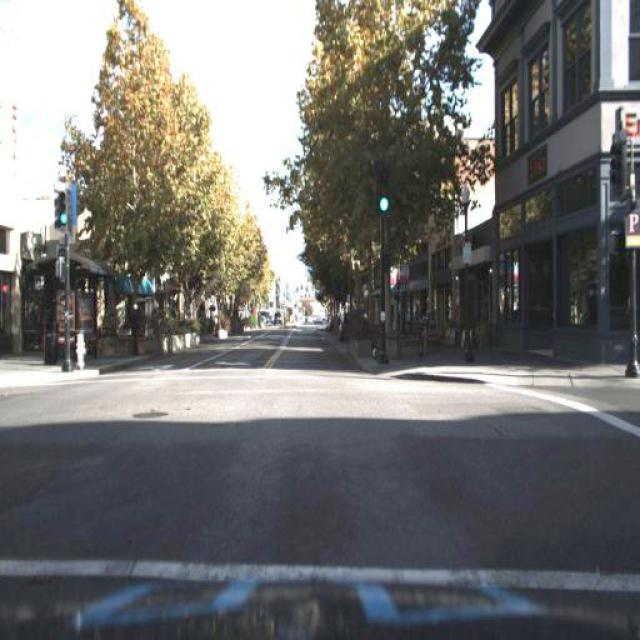semaforo: (376, 166, 392, 215), (54, 189, 72, 231)
